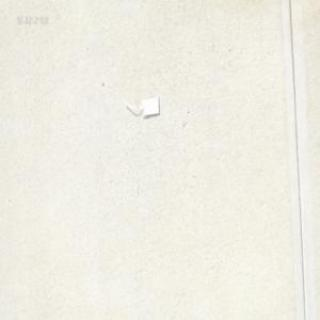LuggageTagtrack_idkeyframe: (121, 95, 159, 118)
